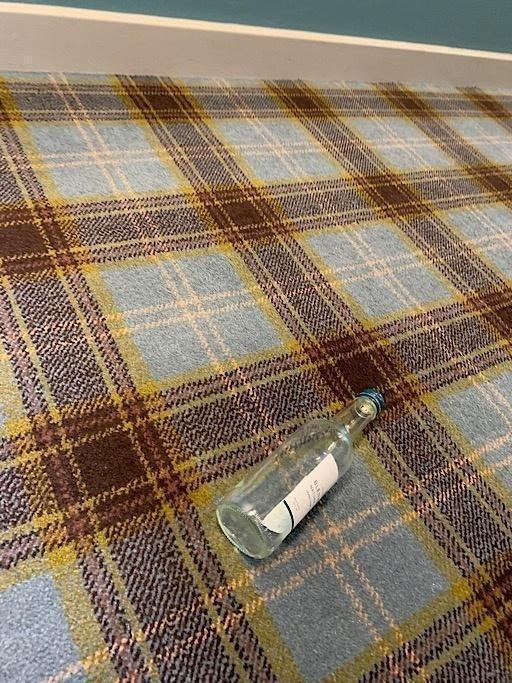bottle-glass: (216, 388, 383, 562)
